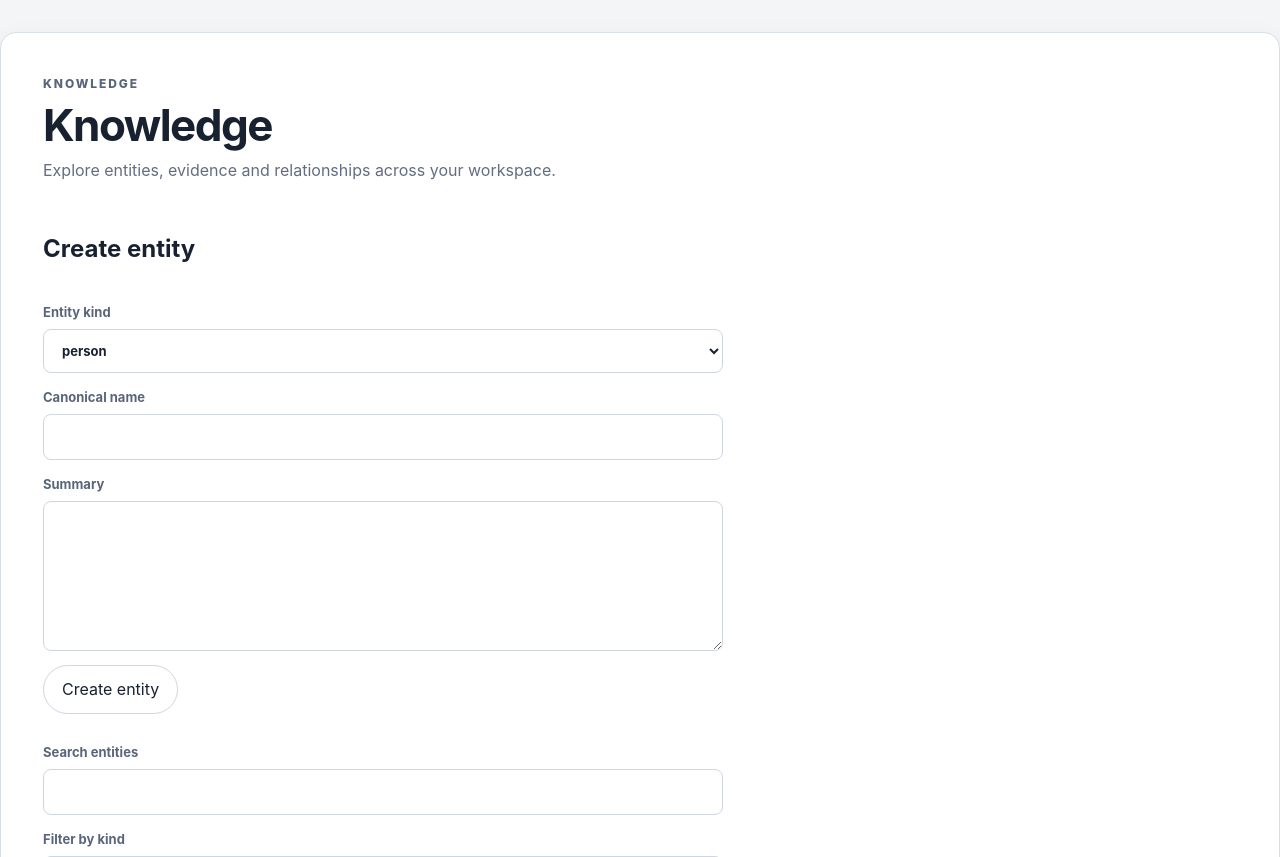
Test case: EntityExplorer › creates an entity and refetches the entity list
Type "Grace Hopper" into the field labelled "Canonical name". click: (383, 437)
box: [43, 414, 723, 460]
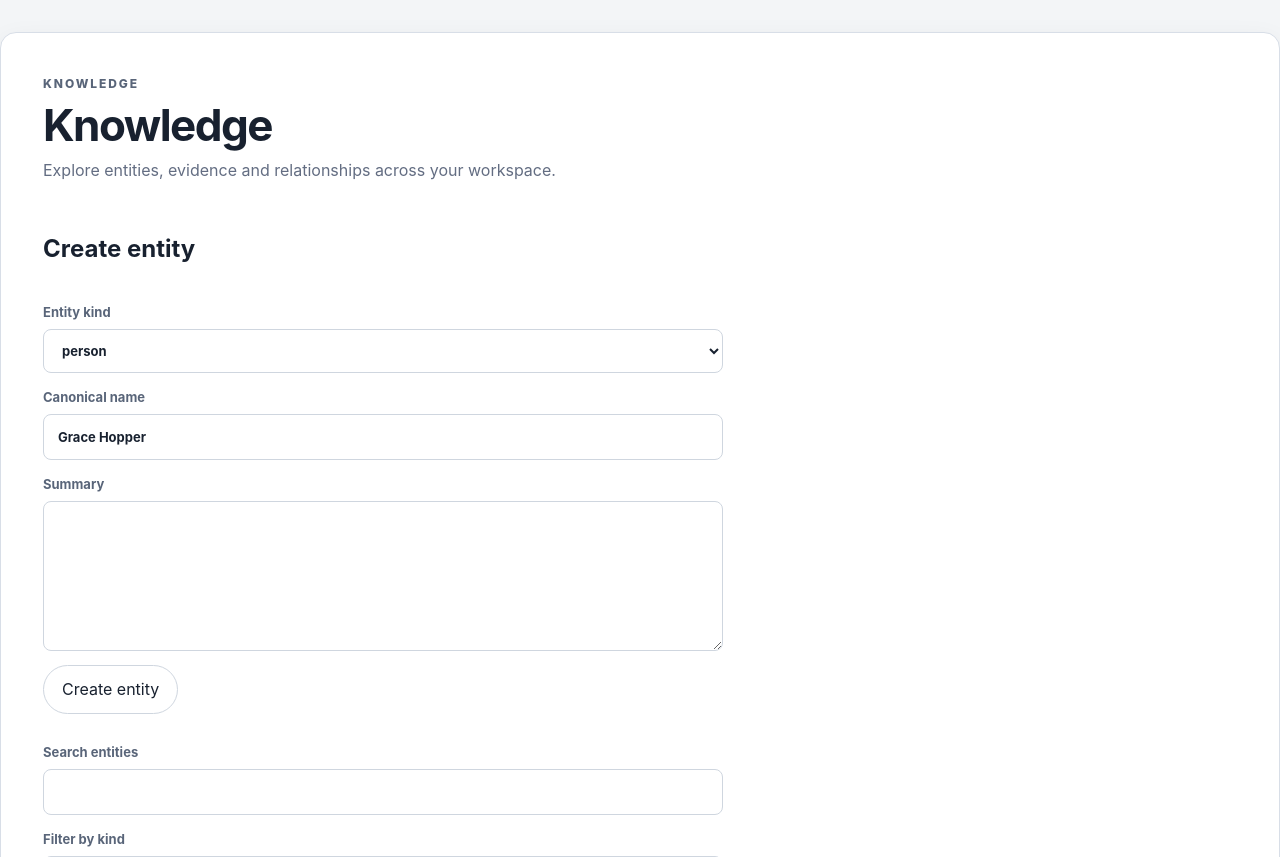
Click the button "Create entity". click: (111, 690)
box: [43, 665, 178, 714]
(page scrolled)
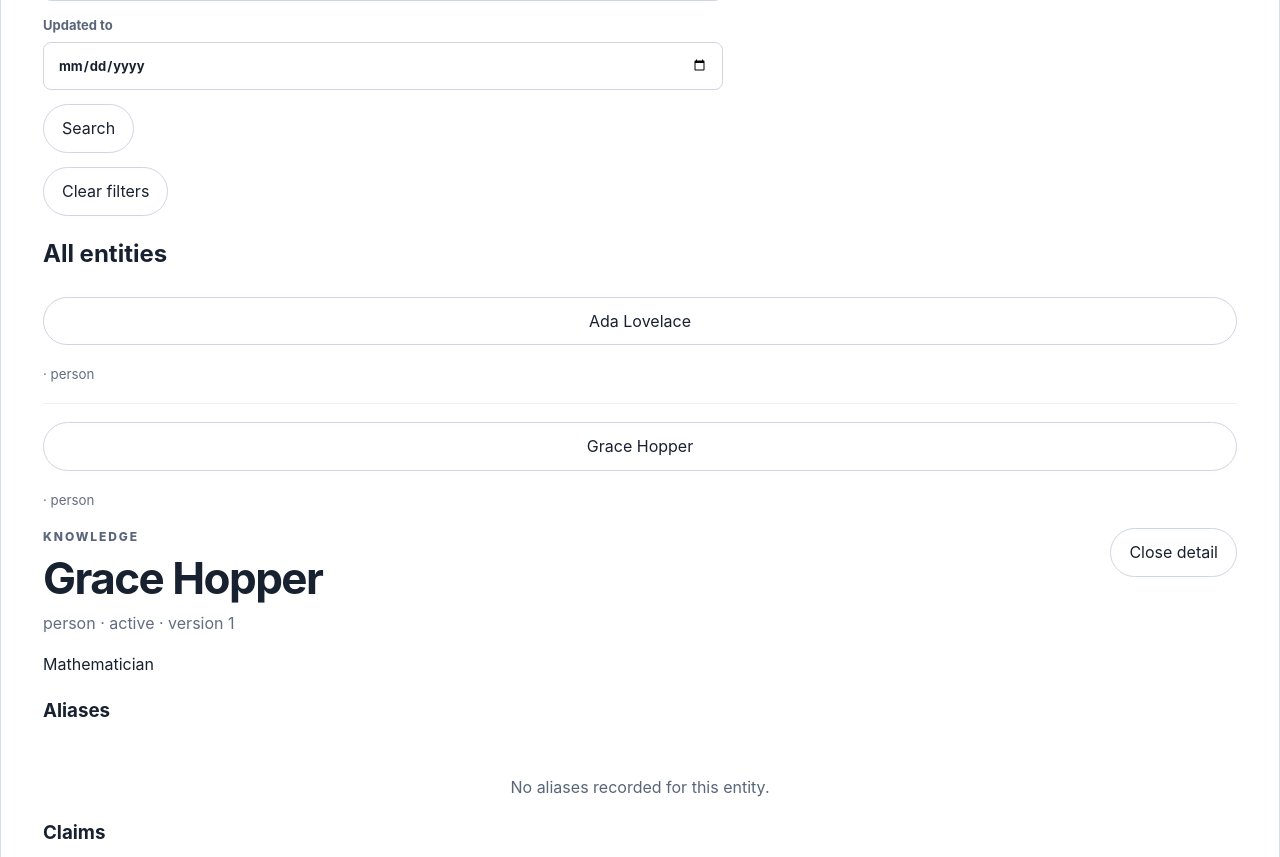
Check: the button "Grace Hopper" is shown, box [43, 422, 1237, 471]
